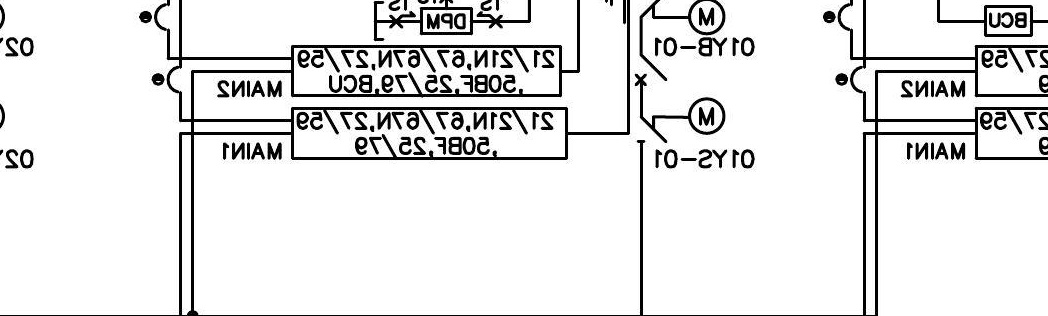115_1way_ds_w_motor: (636, 97, 726, 144)
115_breaker: (634, 54, 668, 86)
BCU: (983, 4, 1034, 38)
DPM: (420, 7, 474, 35)
